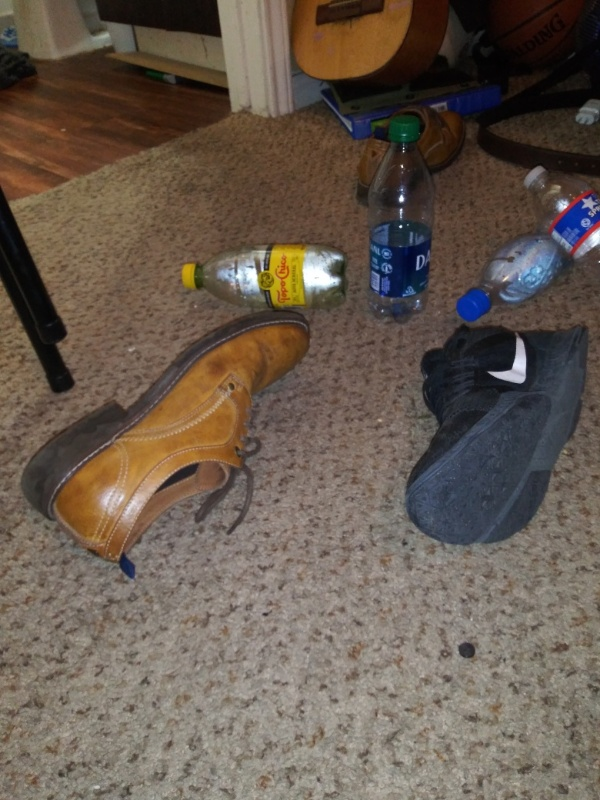bottle: (453, 191, 600, 325), (354, 112, 441, 325), (168, 241, 350, 320), (518, 158, 600, 297)
